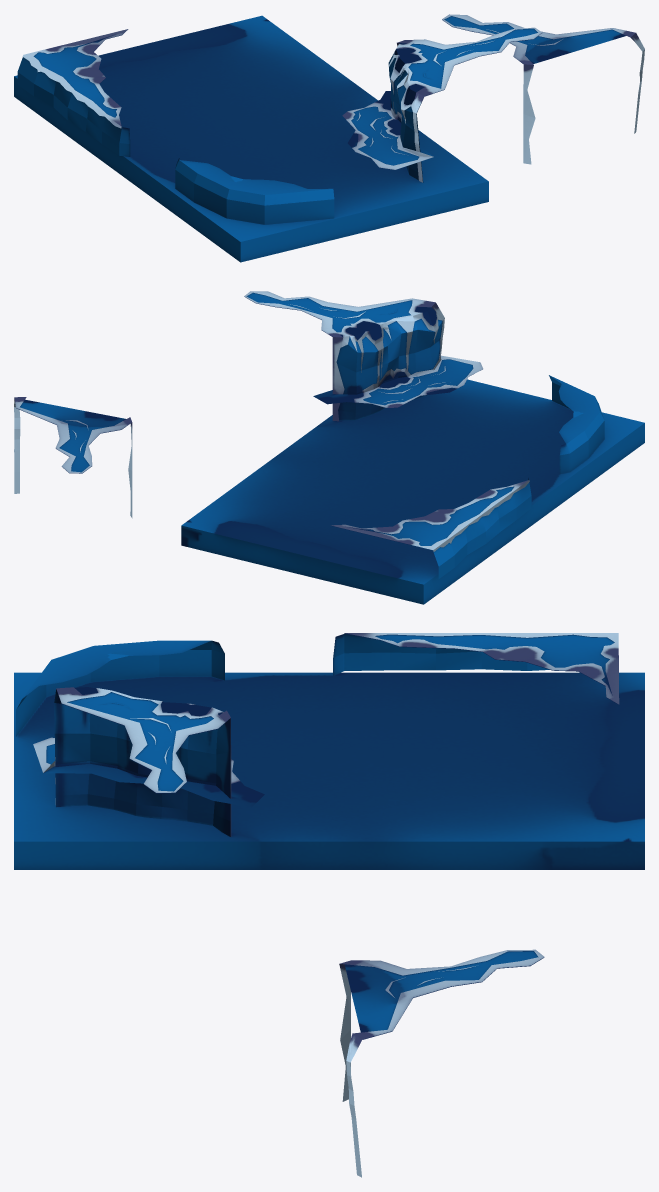
File: Water_01.FBX
The picture shows the model from 3 angles, top to bottom: view 1: azimuth 30°, elevation 25°; view 2: azimuth 150°, elevation 25°; view 3: azimuth 270°, elevation 25°; orthographic projection. The views are drawn at different scales.
Parts seen in each view (by area): view 1: Water_01; view 2: Water_01; view 3: Water_01.
Boxes of the visible parts, x1,y1,x2,y2 form: Water_01: (14,14,644,262); Water_01: (14,291,644,604); Water_01: (14,633,644,1177).
Bounding box in the file's own units: 40.69 × 14.29 × 30.05.
